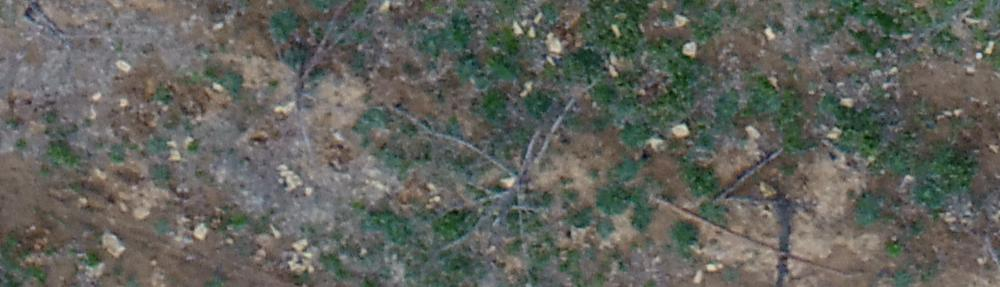apple: (394, 80, 601, 264), (241, 10, 379, 152)
